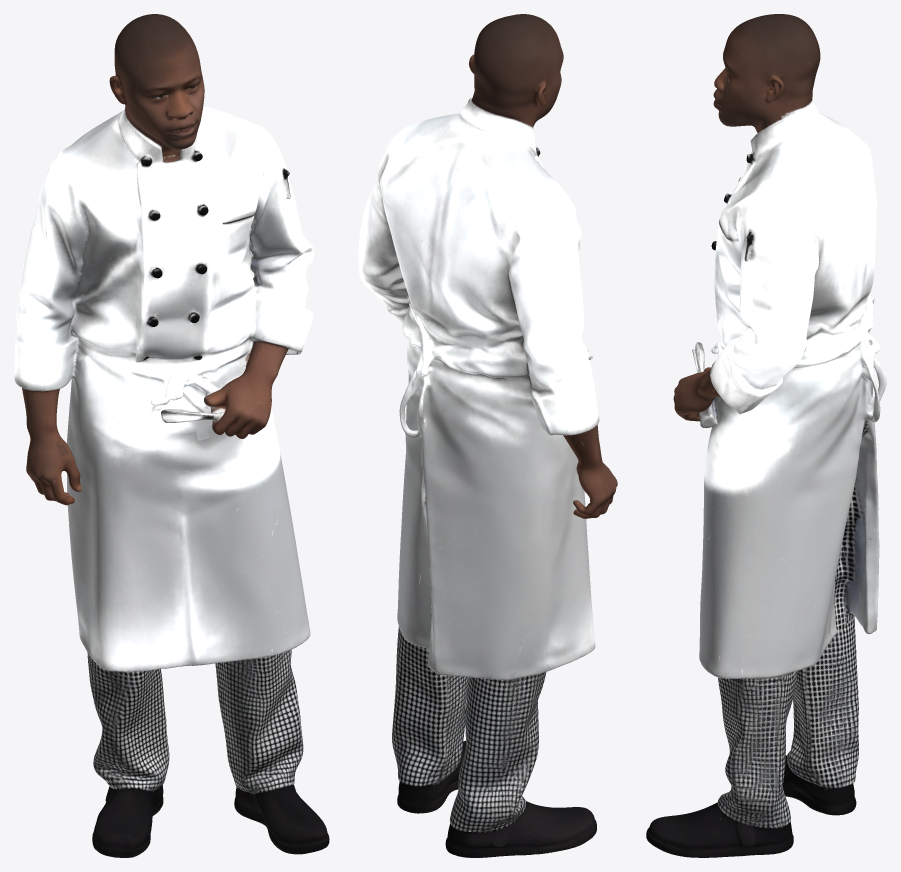
File: chef_male.glb
The picture shows the model from 3 angles, left to right: view 1: azimuth 30°, elevation 25°; view 2: azimuth 150°, elevation 25°; view 3: azimuth 270°, elevation 25°; orthographic projection. The views are drawn at different scales.
Visible parts, largest first — view 1: mesh_0; view 2: mesh_0; view 3: mesh_0.
Boxes of the visible parts, box(x1,y1,x2,y2) form: mesh_0: box(14, 14, 329, 857); mesh_0: box(358, 14, 617, 857); mesh_0: box(646, 14, 886, 857).
Bounding box in the file's own units: 0.6389 × 1.9 × 0.528.
Materials: 1 (1 with a texture image).
